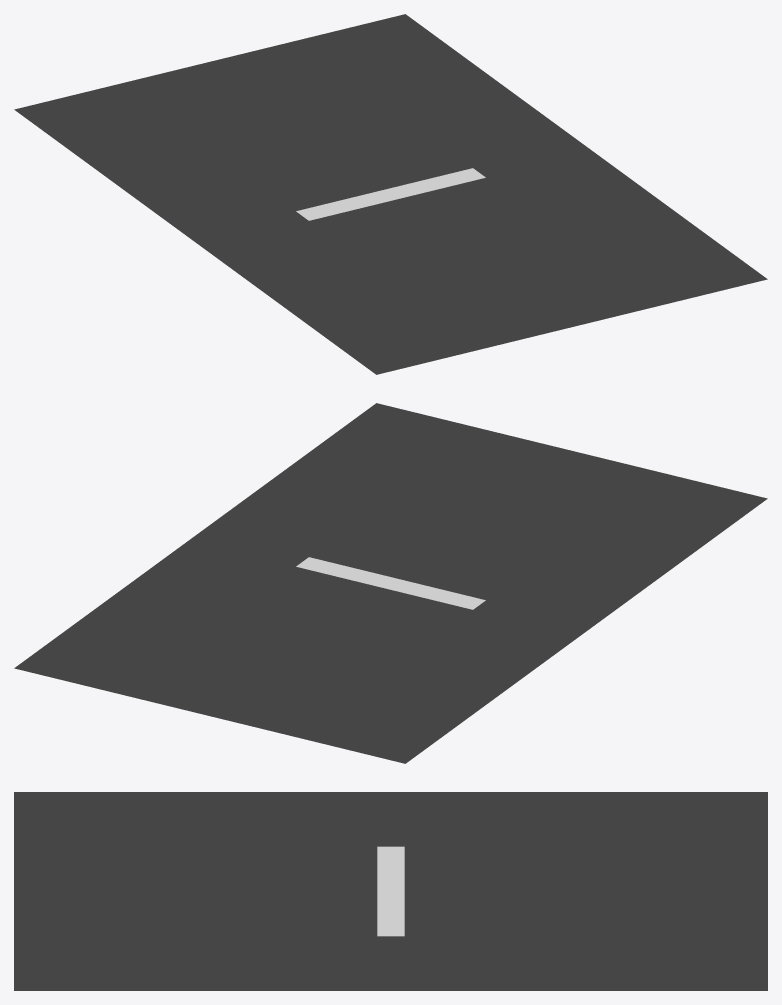
The model's file is Road 1.fbx.
3 renders of one model, top to bottom at view 1: azimuth 30°, elevation 25°; view 2: azimuth 150°, elevation 25°; view 3: azimuth 270°, elevation 25°, orthographic. The views are drawn at different scales.
Visible parts, largest first — view 1: Road 1.001; view 2: Road 1.001; view 3: Road 1.001.
Part boxes in pixels (x1,y1,x2,y2): Road 1.001: (14, 14, 767, 374); Road 1.001: (14, 403, 767, 763); Road 1.001: (14, 792, 767, 990).
Size of the model in its own units: 492 by 789 by 0.000514.
